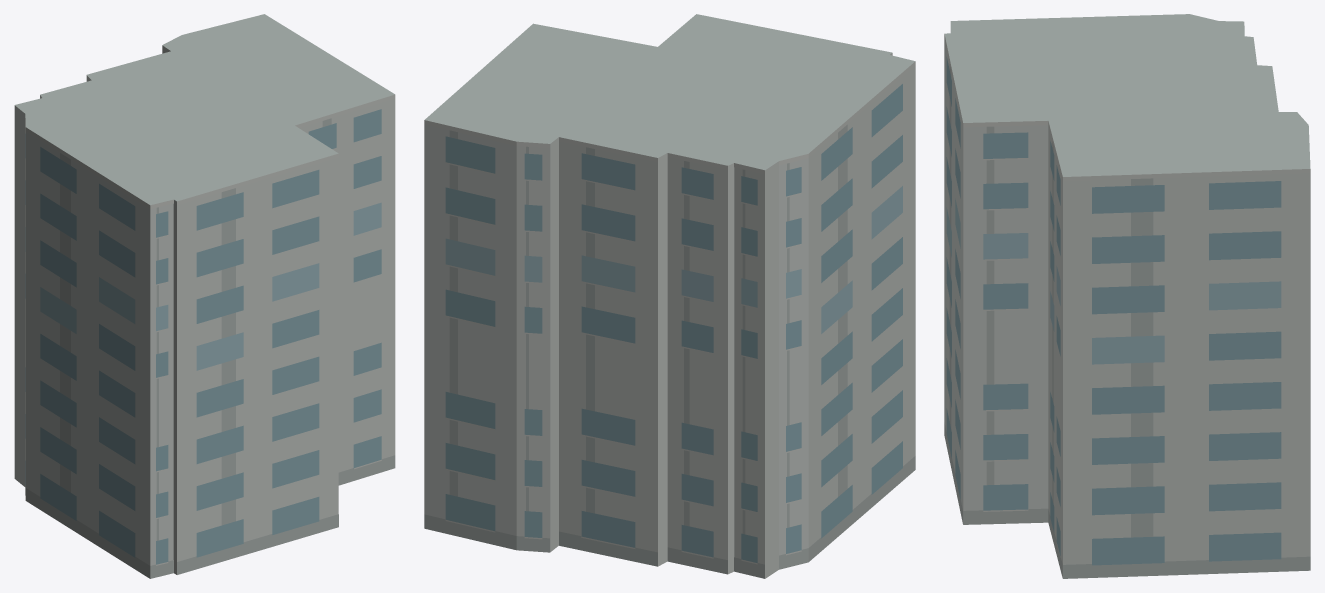
The model's file is survey-upis-32917191.glb.
The picture shows the model from 3 angles, left to right: view 1: azimuth 30°, elevation 25°; view 2: azimuth 150°, elevation 25°; view 3: azimuth 270°, elevation 25°; orthographic projection. The views are drawn at different scales.
Parts seen in each view (by area): view 1: survey-upis-32917191.tmp; view 2: survey-upis-32917191.tmp; view 3: survey-upis-32917191.tmp.
Boxes of the visible parts, x1,y1,x2,y2 form: survey-upis-32917191.tmp: [14, 14, 395, 578]; survey-upis-32917191.tmp: [424, 14, 915, 578]; survey-upis-32917191.tmp: [944, 14, 1310, 578].
Bounding box in the file's own units: 19.77 × 22.7 × 18.75.
